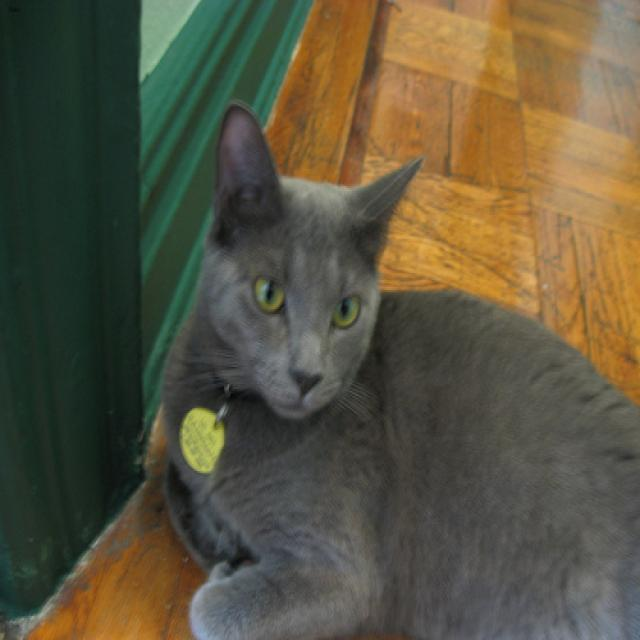Russian_Blue: (190, 91, 425, 425)
